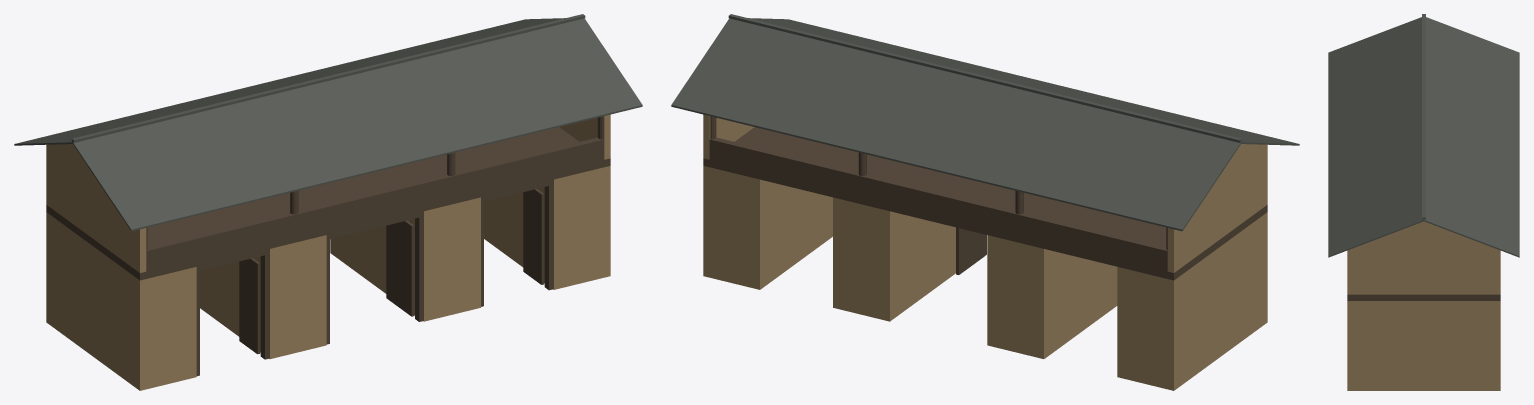
Rendered from zhongdong-Z-LOD2.glb.
The picture shows the model from 3 angles, left to right: view 1: azimuth 30°, elevation 25°; view 2: azimuth 150°, elevation 25°; view 3: azimuth 270°, elevation 25°; orthographic projection. The views are drawn at different scales.
Parts seen in each view (by area): view 1: zhongdong-Z-static_tile, zhongdong-Z-static_earth, zhongdong-Z-static_timber; view 2: zhongdong-Z-static_tile, zhongdong-Z-static_earth, zhongdong-Z-static_timber; view 3: zhongdong-Z-static_tile, zhongdong-Z-static_earth, zhongdong-Z-static_timber.
Part boxes in pixels (x1,y1,x2,y2): zhongdong-Z-static_tile: (14, 14, 642, 231); zhongdong-Z-static_earth: (46, 114, 610, 390); zhongdong-Z-static_timber: (46, 116, 610, 376); zhongdong-Z-static_tile: (671, 14, 1299, 231); zhongdong-Z-static_earth: (703, 114, 1267, 390); zhongdong-Z-static_timber: (703, 116, 1267, 280); zhongdong-Z-static_tile: (1328, 14, 1519, 257); zhongdong-Z-static_earth: (1347, 221, 1500, 390); zhongdong-Z-static_timber: (1347, 294, 1500, 300).
Bounding box in the file's own units: 25.2 × 10.46 × 10.
